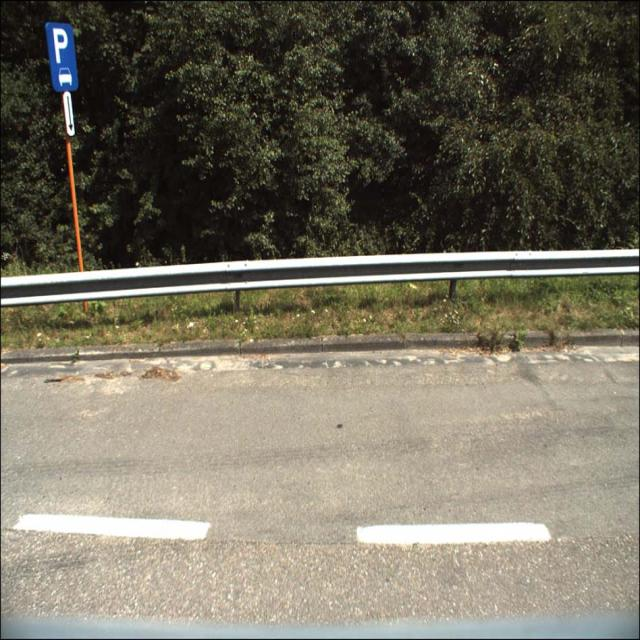park: (46, 24, 78, 92)
